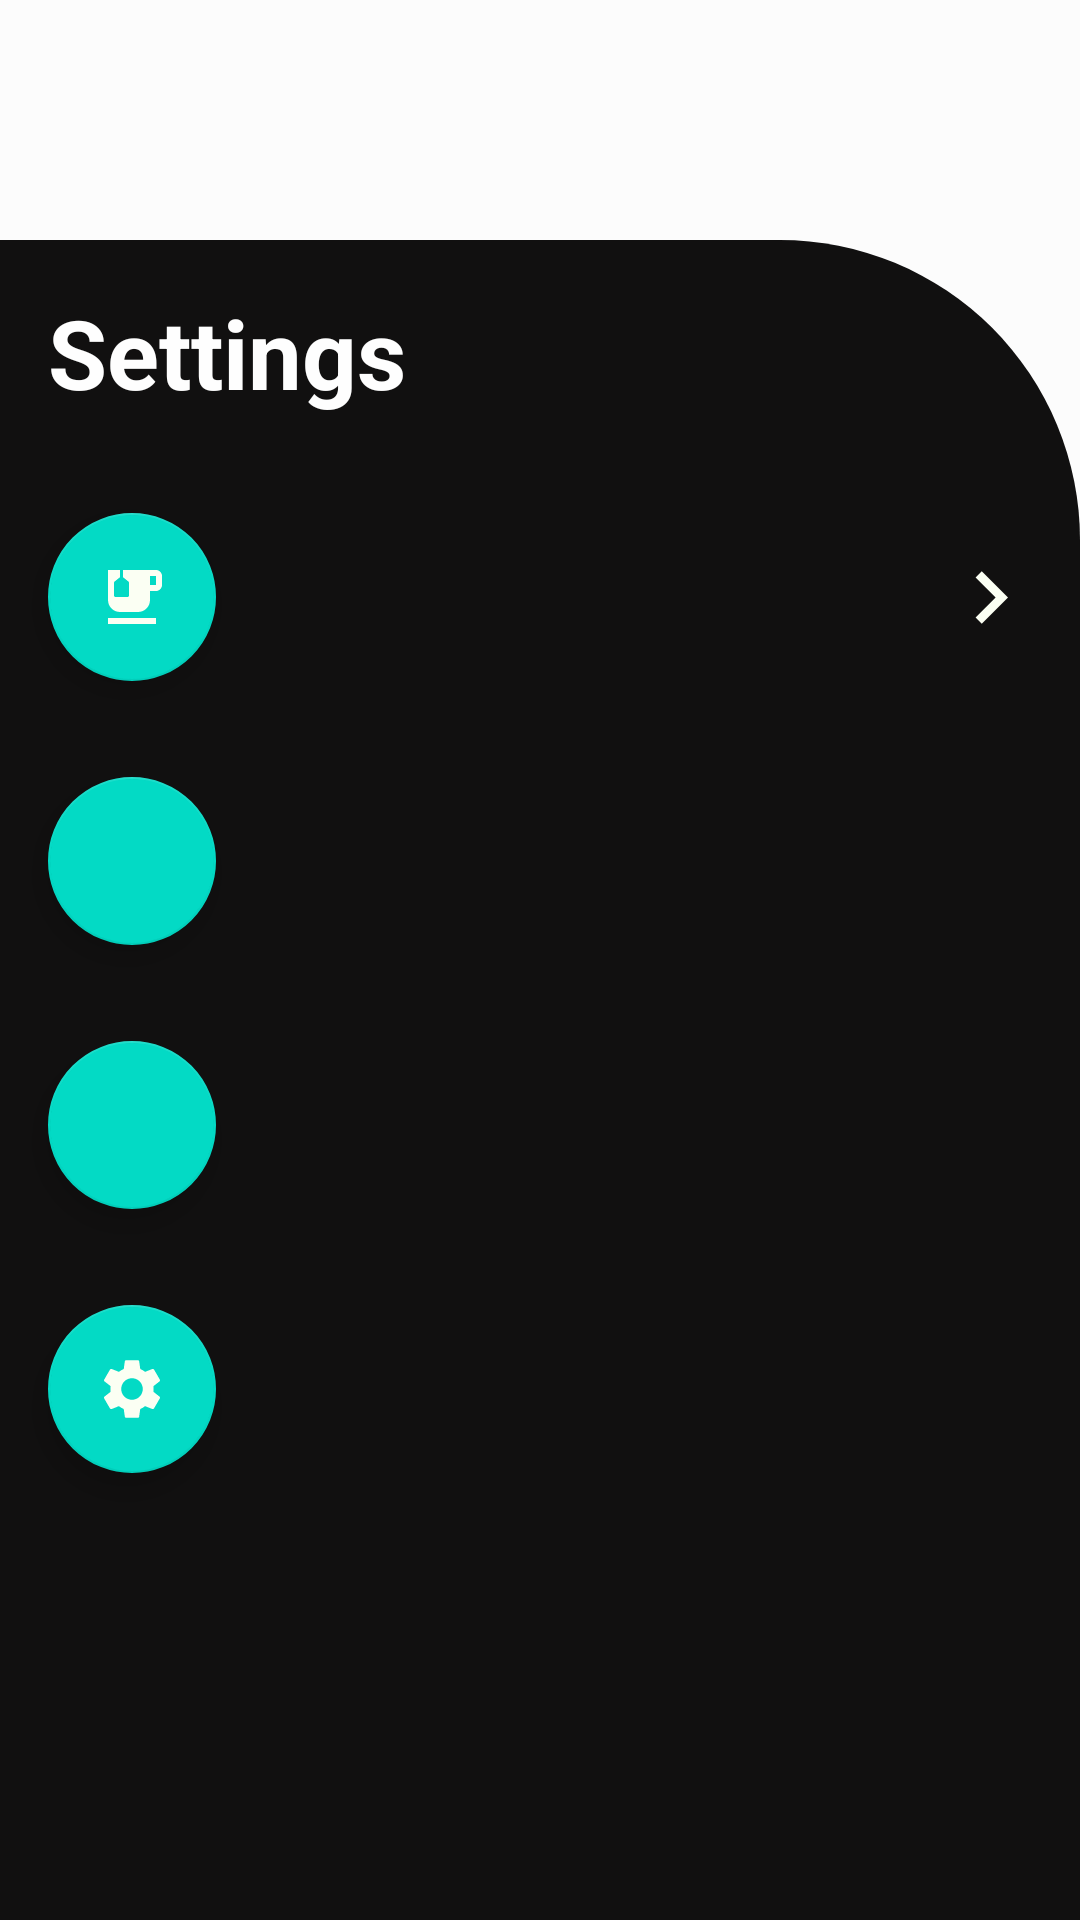

Screen size 1080x1920. Icon name, then its box in pixels as (x1, y1, x2, y2):
emoji food beverage: (48, 513, 216, 681)
navigate next: (975, 571, 1008, 624)
settings: (48, 1305, 216, 1473)
